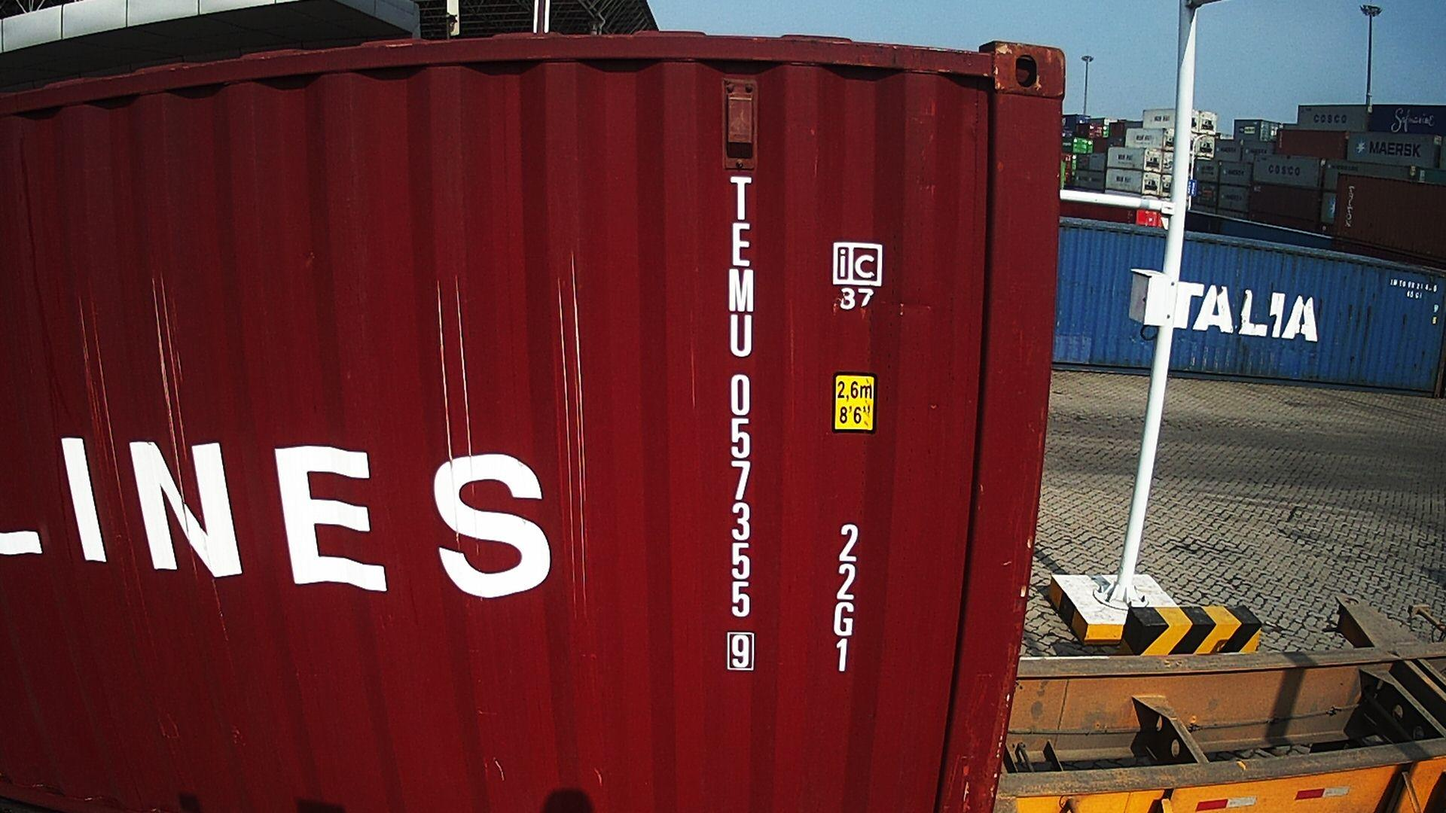container-numbers: (718, 173, 764, 674), (826, 516, 862, 679)
